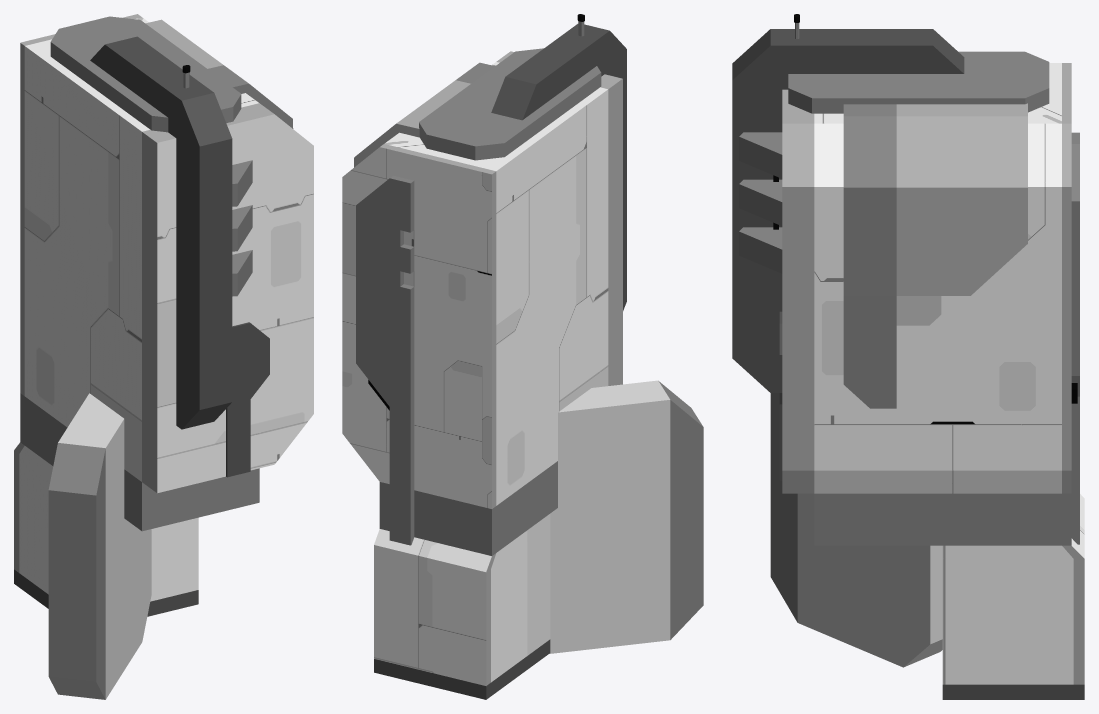
The model's file is SM_BuildingExtra_Tower_2.fbx.
The picture shows the model from 3 angles, left to right: view 1: azimuth 30°, elevation 25°; view 2: azimuth 150°, elevation 25°; view 3: azimuth 270°, elevation 25°; orthographic projection. The views are drawn at different scales.
Parts seen in each view (by area): view 1: SM_BuildingExtra_Tower_2; view 2: SM_BuildingExtra_Tower_2; view 3: SM_BuildingExtra_Tower_2.
Boxes of the visible parts, x1,y1,x2,y2 form: SM_BuildingExtra_Tower_2: (14, 14, 313, 699); SM_BuildingExtra_Tower_2: (342, 14, 703, 699); SM_BuildingExtra_Tower_2: (732, 14, 1084, 699).
Size of the model in its own units: 500 by 1115 by 548.
